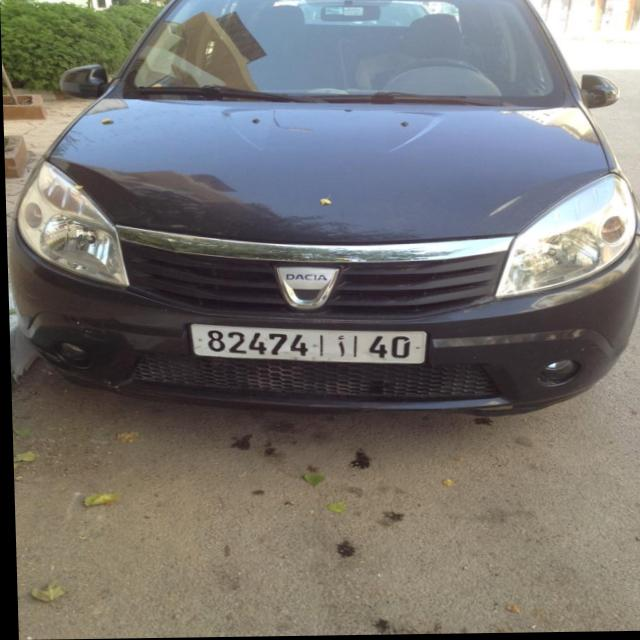License-Plate: (189, 324, 425, 365)
